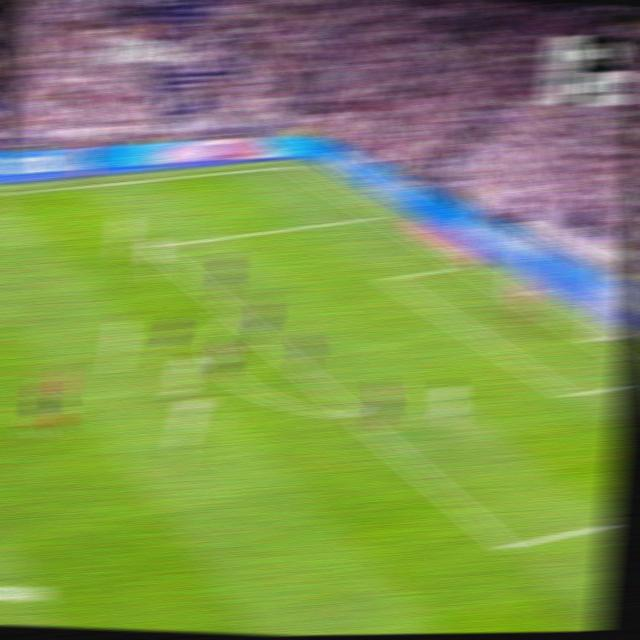bigarea_bottom_inner: (492, 530, 521, 563)
bigarea_top_inner: (151, 240, 168, 257)
bottom_arc_area_intersection: (342, 402, 367, 429)
corner: (279, 157, 304, 173)
smallarea_bottom_inner: (559, 383, 580, 406)
smallarea_top_inner: (381, 270, 401, 286)
top_arc_area_intersection: (226, 307, 244, 320)
